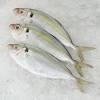Ikan Selar: (3, 42, 84, 89), (4, 20, 69, 45), (13, 6, 90, 25)
